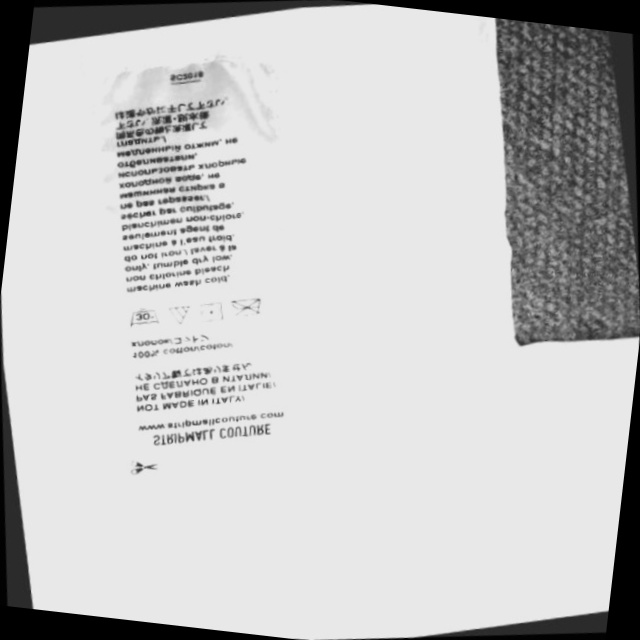30C: (123, 302, 164, 331)
DN_iron: (228, 291, 270, 325)
non_chlorine_bleach: (164, 300, 195, 328)
tumble_dry_low: (191, 297, 229, 326)
